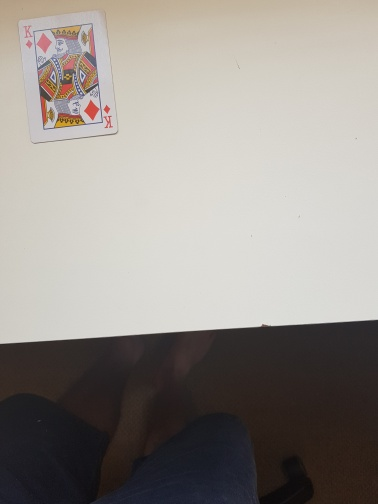king: (17, 9, 119, 146)
